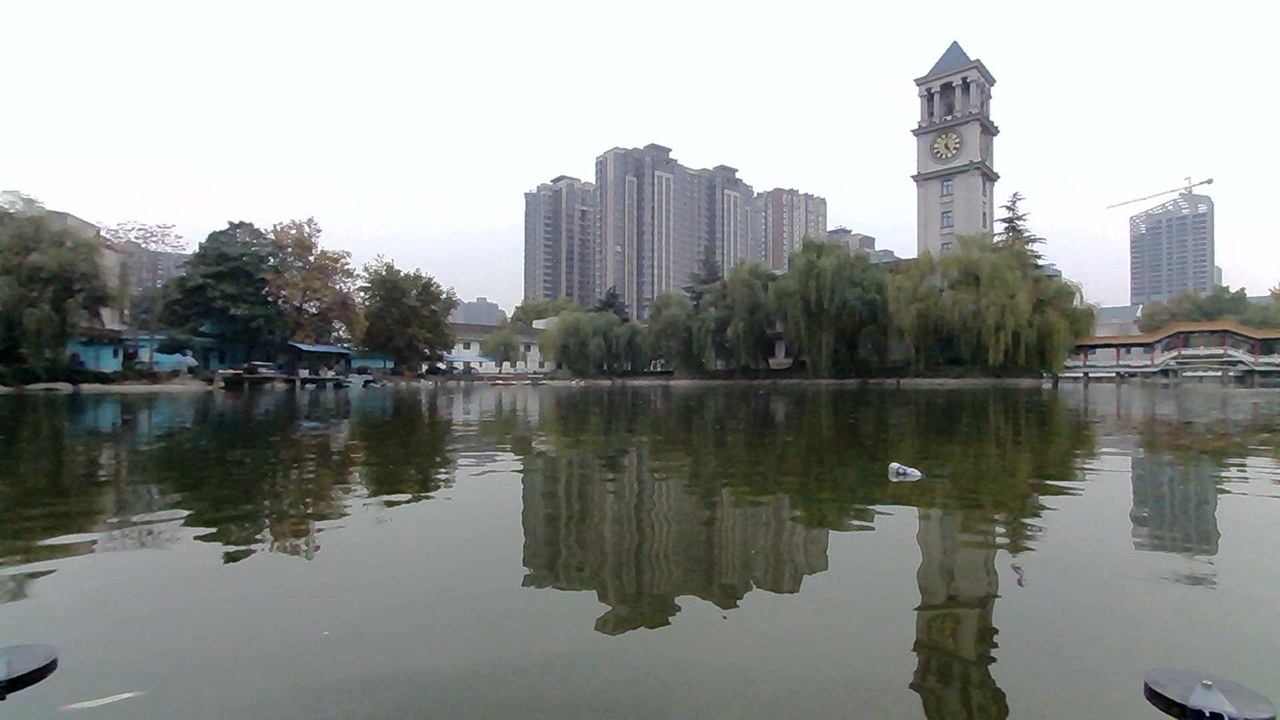bottle: (885, 457, 924, 487)
